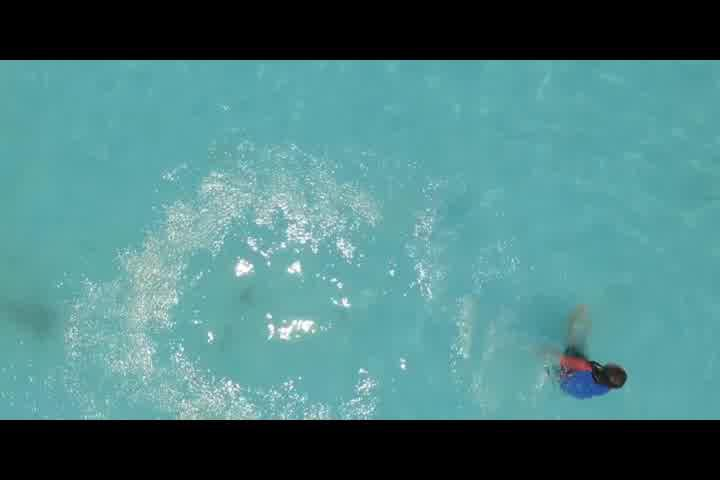human: (553, 302, 628, 403)
